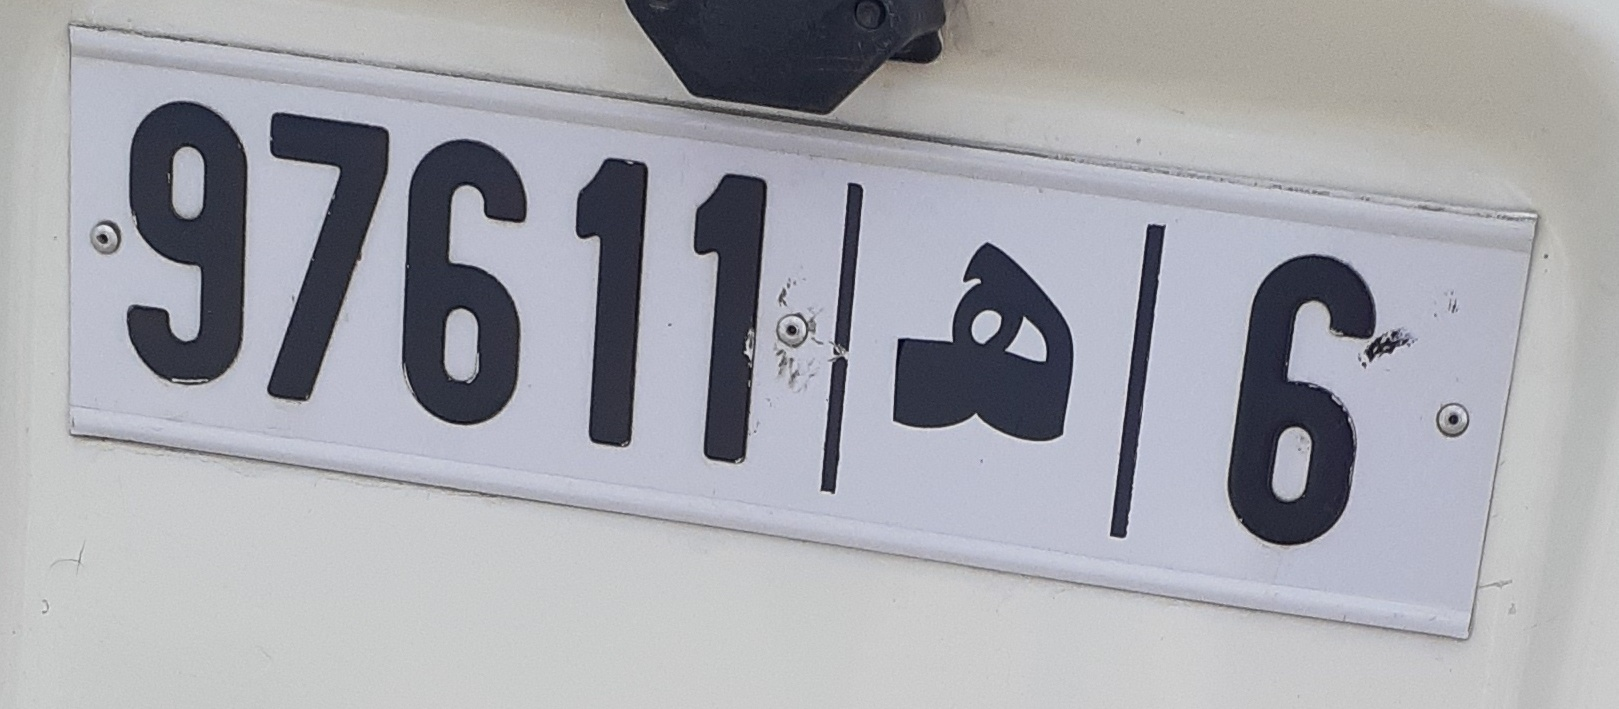1: (547, 135, 678, 467), (683, 163, 793, 483)
6: (1218, 235, 1383, 567), (389, 125, 537, 431)
7: (258, 99, 399, 405)
9: (110, 85, 263, 397)
h: (881, 216, 1096, 483)
